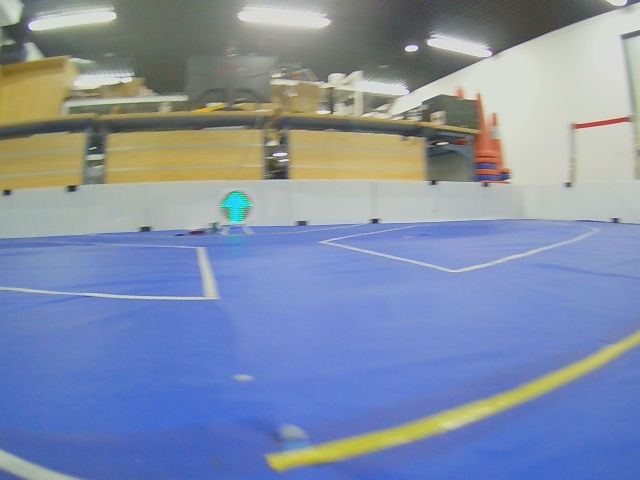straight_green: (220, 191, 252, 224)
